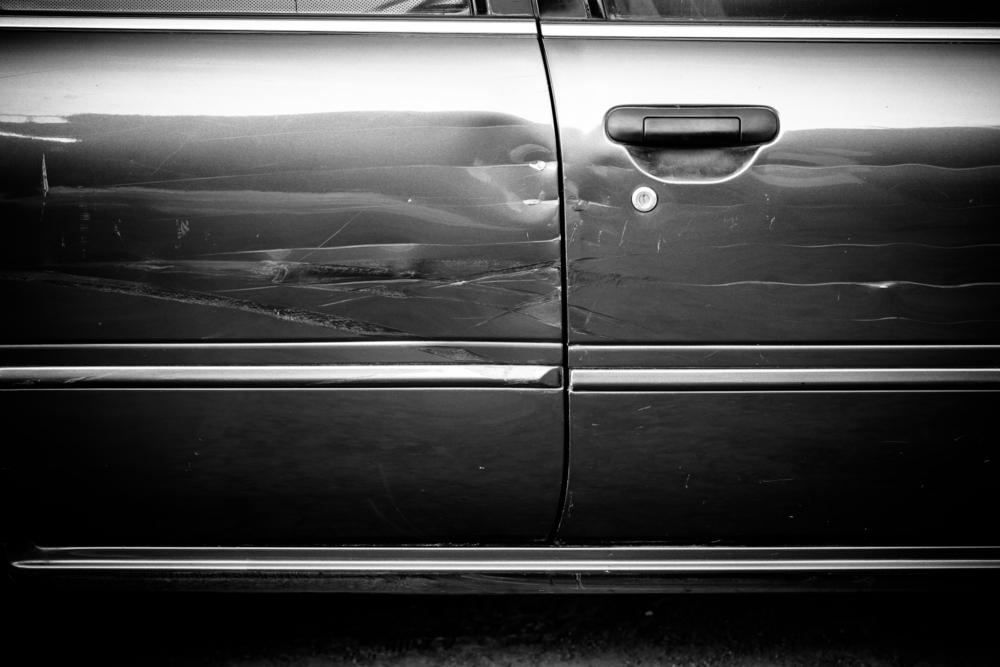dent: (452, 114, 558, 222), (572, 153, 629, 220), (755, 149, 856, 183)
scratch: (40, 151, 564, 364), (570, 227, 1000, 345)
